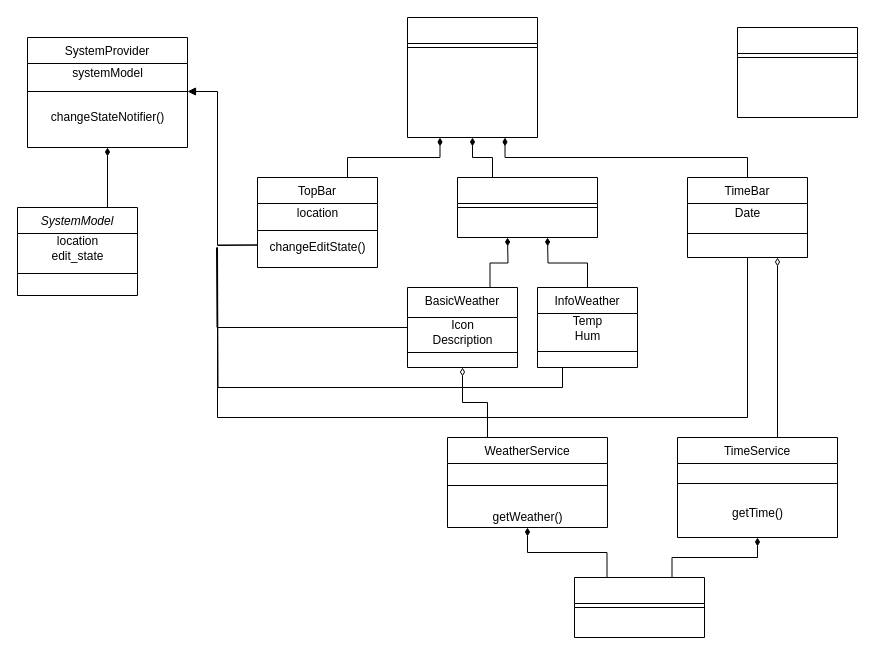
This 875x655 diagram has some shape labels left out. Each missing label, with the centre of its shape:
constants: the point at 797,72
MainScreen: the point at 472,77
NetworkService: the point at 639,607
WeatherBar: the point at 527,207
